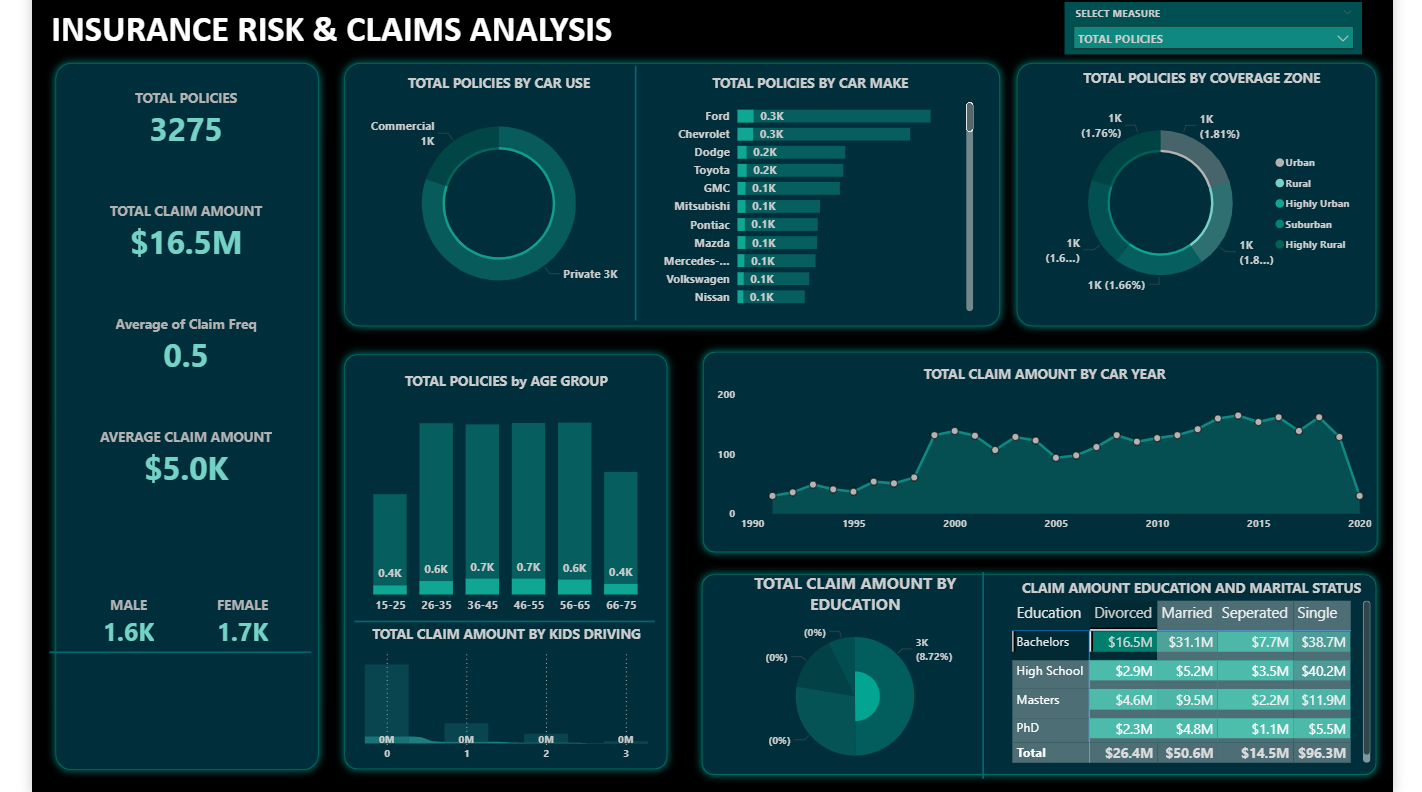

The page's visual inventory and layout, read from the dashboard file:
{"tool":"powerbi","page":{"name":"Page 1","canvas":[1600,950],"ordinal":0},"visuals":[{"type":"textbox","box":[17.2,17.2,679.2,61.7],"z":0},{"type":"shape","box":[17.2,78.9,329.3,850.8],"z":1000},{"type":"shape","box":[356.8,78.9,790.7,329.3],"z":2000},{"type":"cardVisual","fields":{"Data":["insurance_data_car.TOTAL POLICIES","insurance_data_car.TOTAL CLAIM AMOUNT","Avg(insurance_data_car.Claim Freq)","insurance_data_car.AVERAGE CLAIM AMOUNT"]},"box":[47,92.5,268.8,525.8],"z":3000},{"type":"cardVisual","fields":{"Data":["insurance_data_car.MALE COUNT","insurance_data_car.FEMALE COUNT"]},"box":[51.4,674.2,260,141],"z":4000},{"type":"slicer","fields":{"Values":["SELECT MEASURE.SELECT MEASURE"]},"box":[1212.7,17.2,349.9,61.7],"z":5000},{"type":"donutChart","title":"TOTAL POLICIES BY CAR USE","fields":{"Y":["insurance_data_car.TOTAL POLICIES"],"Category":["insurance_data_car.Car Use"]},"box":[379.1,101.2,339.6,284.7],"z":6000},{"type":"barChart","title":"TOTAL POLICIES BY CAR MAKE","fields":{"Y":["insurance_data_car.TOTAL POLICIES"],"Category":["insurance_data_car.Car Make"]},"box":[718.7,101.2,392.8,284.7],"z":7000},{"type":"shape","box":[1147.5,78.9,442.5,329.3],"z":8000},{"type":"donutChart","title":"TOTAL POLICIES BY COVERAGE ZONE","fields":{"Y":["insurance_data_car.TOTAL POLICIES"],"Category":["insurance_data_car.Coverage Zone"]},"box":[1187,96.1,375.6,295],"z":9000},{"type":"shape","box":[356.8,422,399.7,507.7],"z":10000},{"type":"columnChart","fields":{"Y":["insurance_data_car.TOTAL POLICIES"],"Category":["insurance_data_car.AGE GROUP"]},"box":[373.9,451.1,365.4,295],"z":11000},{"type":"ribbonChart","title":"TOTAL CLAIM AMOUNT BY KIDS DRIVING","fields":{"Y":["insurance_data_car.TOTAL POLICIES"],"Category":["insurance_data_car.Kids Driving"]},"box":[374,749.6,365.9,170],"z":12000},{"type":"shape","box":[778.7,419.3,812.7,255.8],"z":13000},{"type":"areaChart","title":"TOTAL CLAIM AMOUNT BY CAR YEAR","fields":{"Y":["insurance_data_car.TOTAL POLICIES"],"Category":["insurance_data_car.Car Year"]},"box":[799.8,443.6,778.7,205.6],"z":14000},{"type":"shape","box":[777.1,680,812.7,255.8],"z":15000},{"type":"pieChart","title":"TOTAL CLAIM AMOUNT BY EDUCATION","fields":{"Y":["insurance_data_car.TOTAL POLICIES"],"Category":["insurance_data_car.Education"]},"box":[799.8,688.1,333.5,242.8],"z":16000},{"type":"pivotTable","title":"CLAIM AMOUNT EDUCATION AND MARITAL STATUS","fields":{"Rows":["insurance_data_car.Education"],"Columns":["insurance_data_car.Marital Status"],"Values":["insurance_data_car.TOTAL CLAIM AMOUNT"]},"box":[1147.8,694.5,430.6,221.8],"z":17000},{"type":"shape","box":[678.3,92.3,61.5,299.5],"z":18000},{"type":"shape","box":[1086.3,688.1,61.5,242.8],"z":19000},{"type":"shape","box":[378.8,728.5,352.9,34],"z":20000},{"type":"shape","box":[21,762.5,307.6,38.9],"z":21000}]}

Visuals, with their boxes on the page's 1600x950 design canvas (x1, y1, x2, y2). These are canvas units, not pixel positions in the 1422x792 screenshot, which may show the page scaled, cropped or inside an application window:
textbox: region(17, 17, 696, 79)
shape: region(17, 79, 346, 930)
shape: region(357, 79, 1148, 408)
cardVisual - insurance_data_car.TOTAL POLICIES x insurance_data_car.TOTAL CLAIM AMOUNT: region(47, 92, 316, 618)
cardVisual - insurance_data_car.MALE COUNT x insurance_data_car.FEMALE COUNT: region(51, 674, 311, 815)
slicer - SELECT MEASURE.SELECT MEASURE: region(1213, 17, 1563, 79)
"TOTAL POLICIES BY CAR USE" donutChart: region(379, 101, 719, 386)
"TOTAL POLICIES BY CAR MAKE" barChart: region(719, 101, 1112, 386)
shape: region(1148, 79, 1590, 408)
"TOTAL POLICIES BY COVERAGE ZONE" donutChart: region(1187, 96, 1563, 391)
shape: region(357, 422, 756, 930)
columnChart - insurance_data_car.TOTAL POLICIES x insurance_data_car.AGE GROUP: region(374, 451, 739, 746)
"TOTAL CLAIM AMOUNT BY KIDS DRIVING" ribbonChart: region(374, 750, 740, 920)
shape: region(779, 419, 1591, 675)
"TOTAL CLAIM AMOUNT BY CAR YEAR" areaChart: region(800, 444, 1578, 649)
shape: region(777, 680, 1590, 936)
"TOTAL CLAIM AMOUNT BY EDUCATION" pieChart: region(800, 688, 1133, 931)
"CLAIM AMOUNT EDUCATION AND MARITAL STATUS" pivotTable: region(1148, 694, 1578, 916)
shape: region(678, 92, 740, 392)
shape: region(1086, 688, 1148, 931)
shape: region(379, 728, 732, 762)
shape: region(21, 762, 329, 801)
